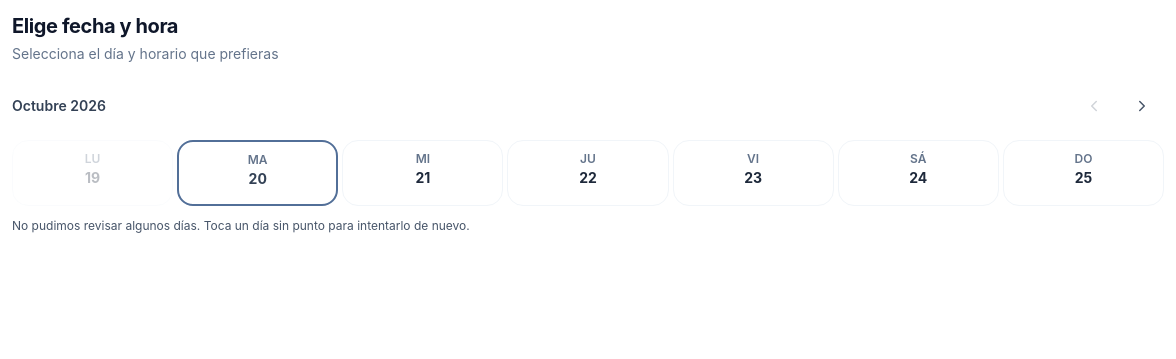
PasoFechaHora — consulta semanal › si la semana falla, tocar un día pide solo ese día
The width and height of the screenshot is (1176, 359).
Click the button "Mi 21" at {"x": 423, "y": 173}, box left=342, top=140, right=503, bottom=206
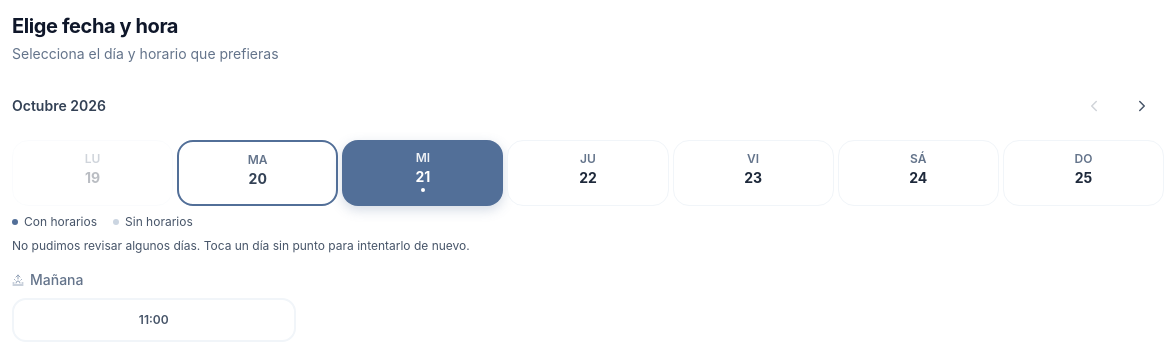
Check: the button "11:00" is shown, box left=12, top=298, right=296, bottom=342
